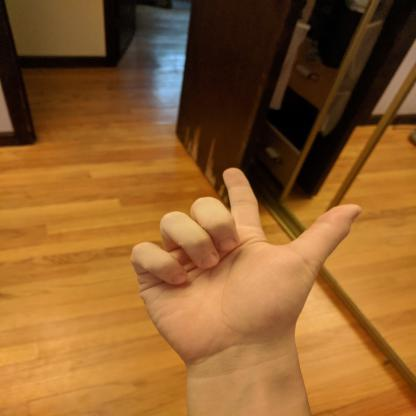L: (124, 162, 367, 362)
